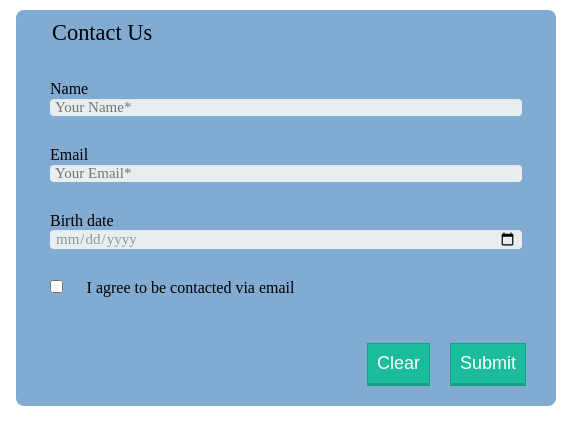
Test case: Displays success message after post
In the field with placeholder "Your Name*": [286, 107] box 50,99 -> 522,116, type "Full Name"
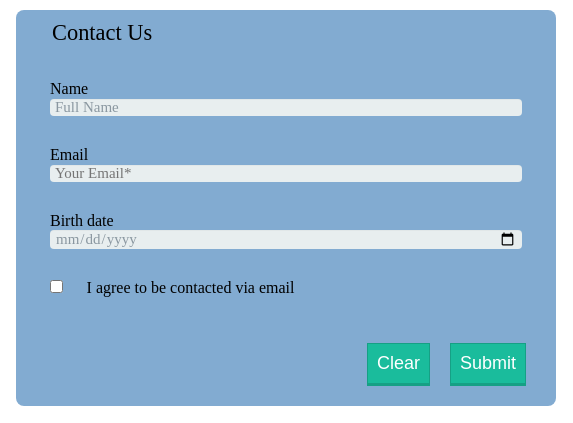
In the field with placeholder "Your Email*": [286, 173] box 50,165 -> 522,182, type "test@test.com"
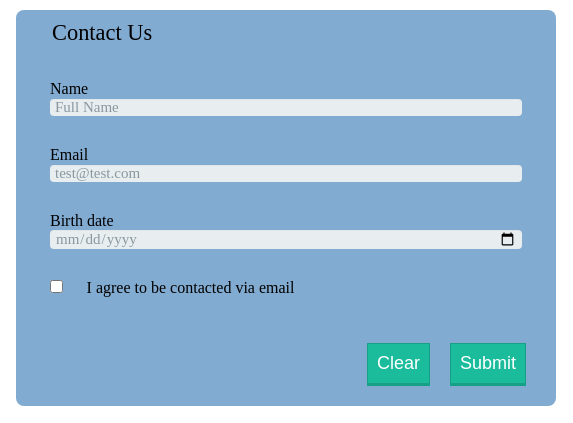
In the date field with test id "date-input": [286, 239] box 50,230 -> 522,249, type "2000-01-01"
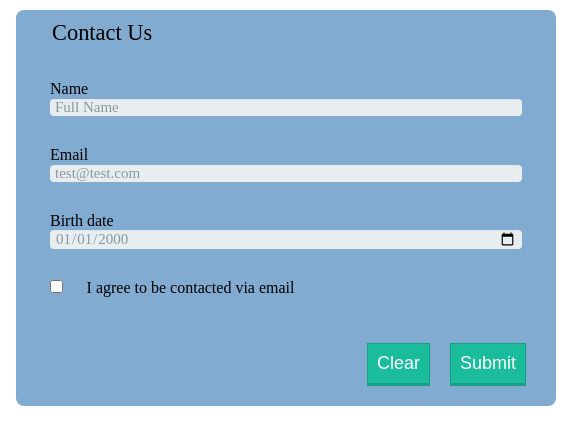
Click the checkbox labelled "I agree to be contacted via email": [56, 286] box 50,280 -> 63,293
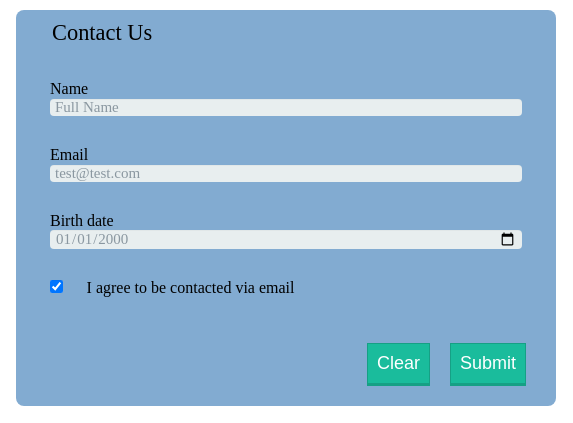
Click the button "Submit": [488, 364] box 450,343 -> 526,386
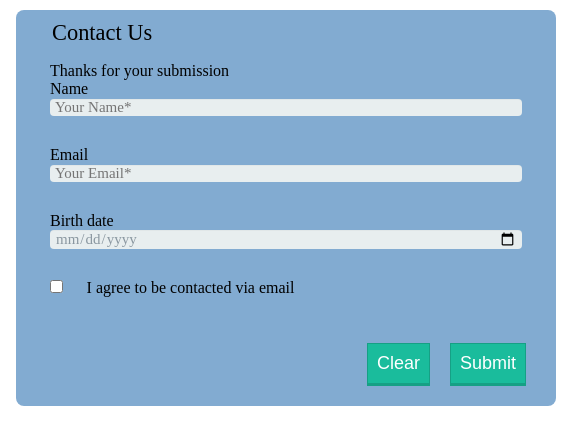
Expected: the text "Thanks for your submission" is shown, 50,62 -> 229,79
